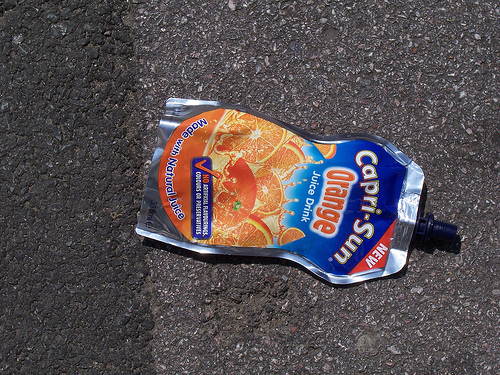litter: (134, 95, 458, 285)
